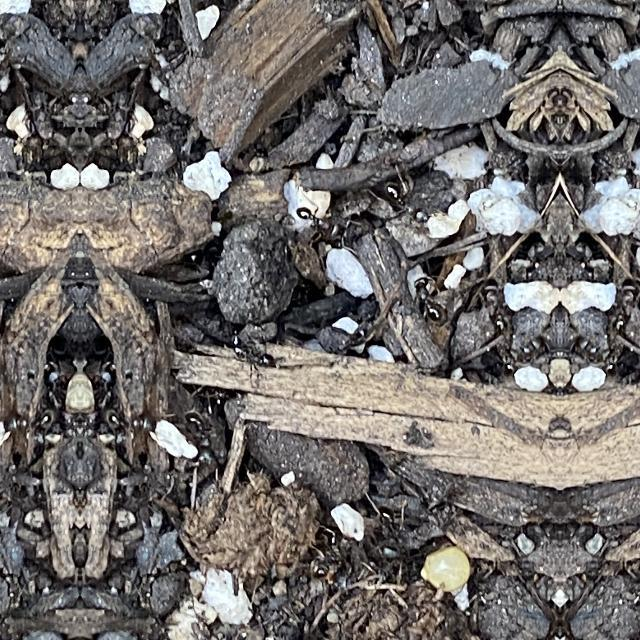Tetramorium: (296, 193, 360, 250), (381, 162, 433, 230), (408, 262, 434, 334), (487, 275, 517, 337), (603, 275, 633, 337)
